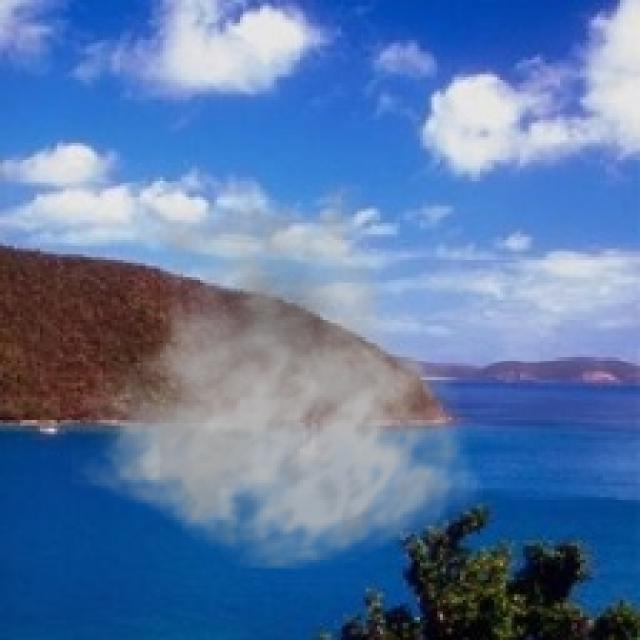Smoke: (71, 168, 483, 572)
